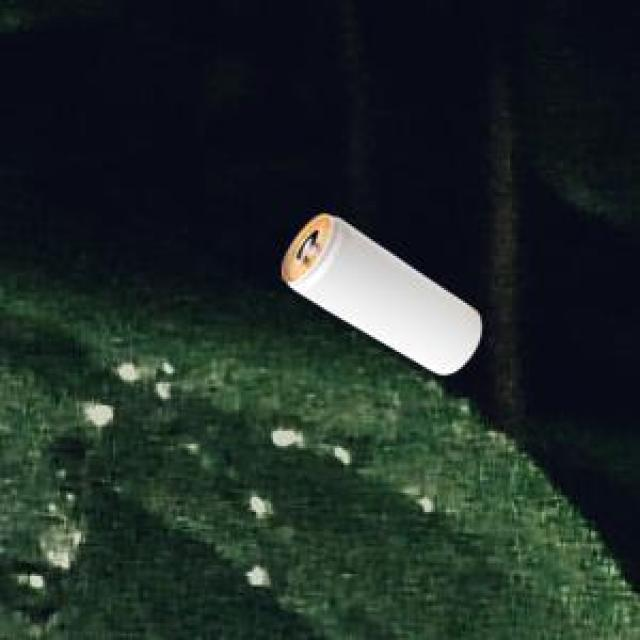Can: (278, 212, 479, 372)
